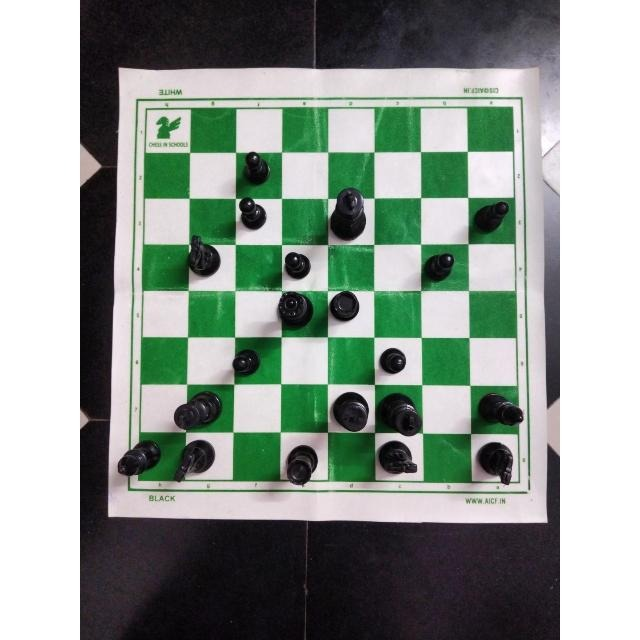black-bishop: (472, 384, 531, 431), (116, 436, 165, 484)
black-king: (326, 184, 370, 245), (172, 385, 224, 432), (376, 392, 424, 439), (327, 385, 371, 433)
black-knight: (471, 439, 519, 491), (172, 435, 220, 485), (185, 231, 228, 280), (376, 437, 422, 481)
black-pawn: (469, 198, 513, 238), (375, 337, 411, 380), (236, 149, 274, 189), (422, 250, 461, 287), (233, 195, 271, 231), (281, 246, 315, 282), (229, 346, 265, 378)
black-queen: (272, 289, 318, 331)
black-rook: (282, 442, 322, 492), (328, 289, 362, 323)
